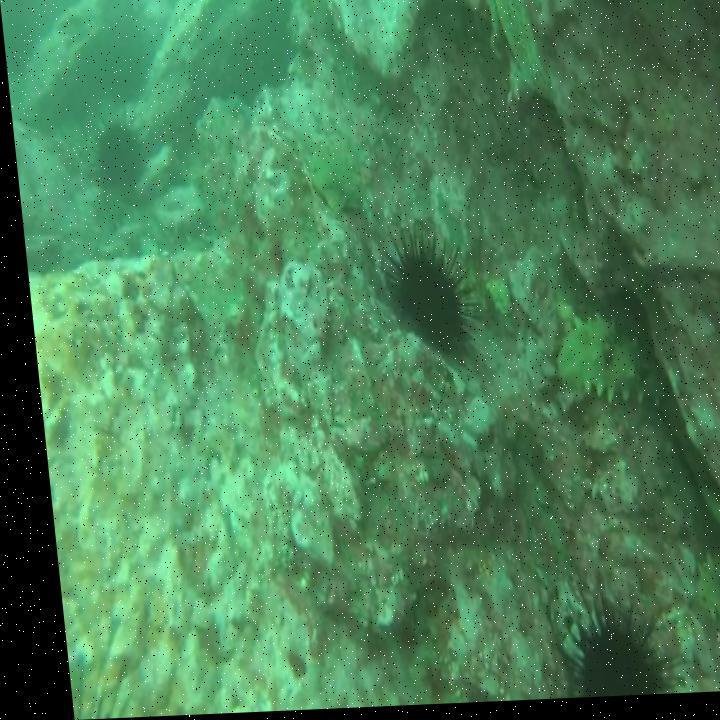echinus: (534, 578, 669, 703), (369, 214, 472, 370), (74, 106, 149, 202)
holothurian: (540, 309, 665, 430), (678, 555, 720, 659)
